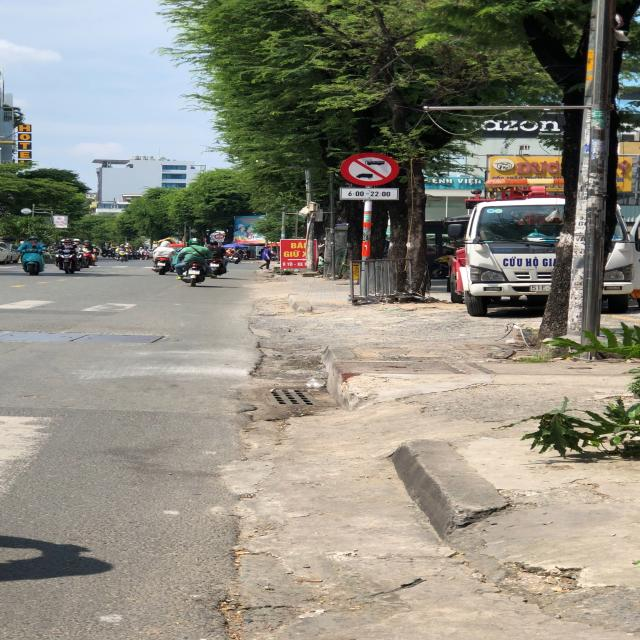Bien bao cam xe oto khach va xe oto tai: (337, 151, 400, 187)
